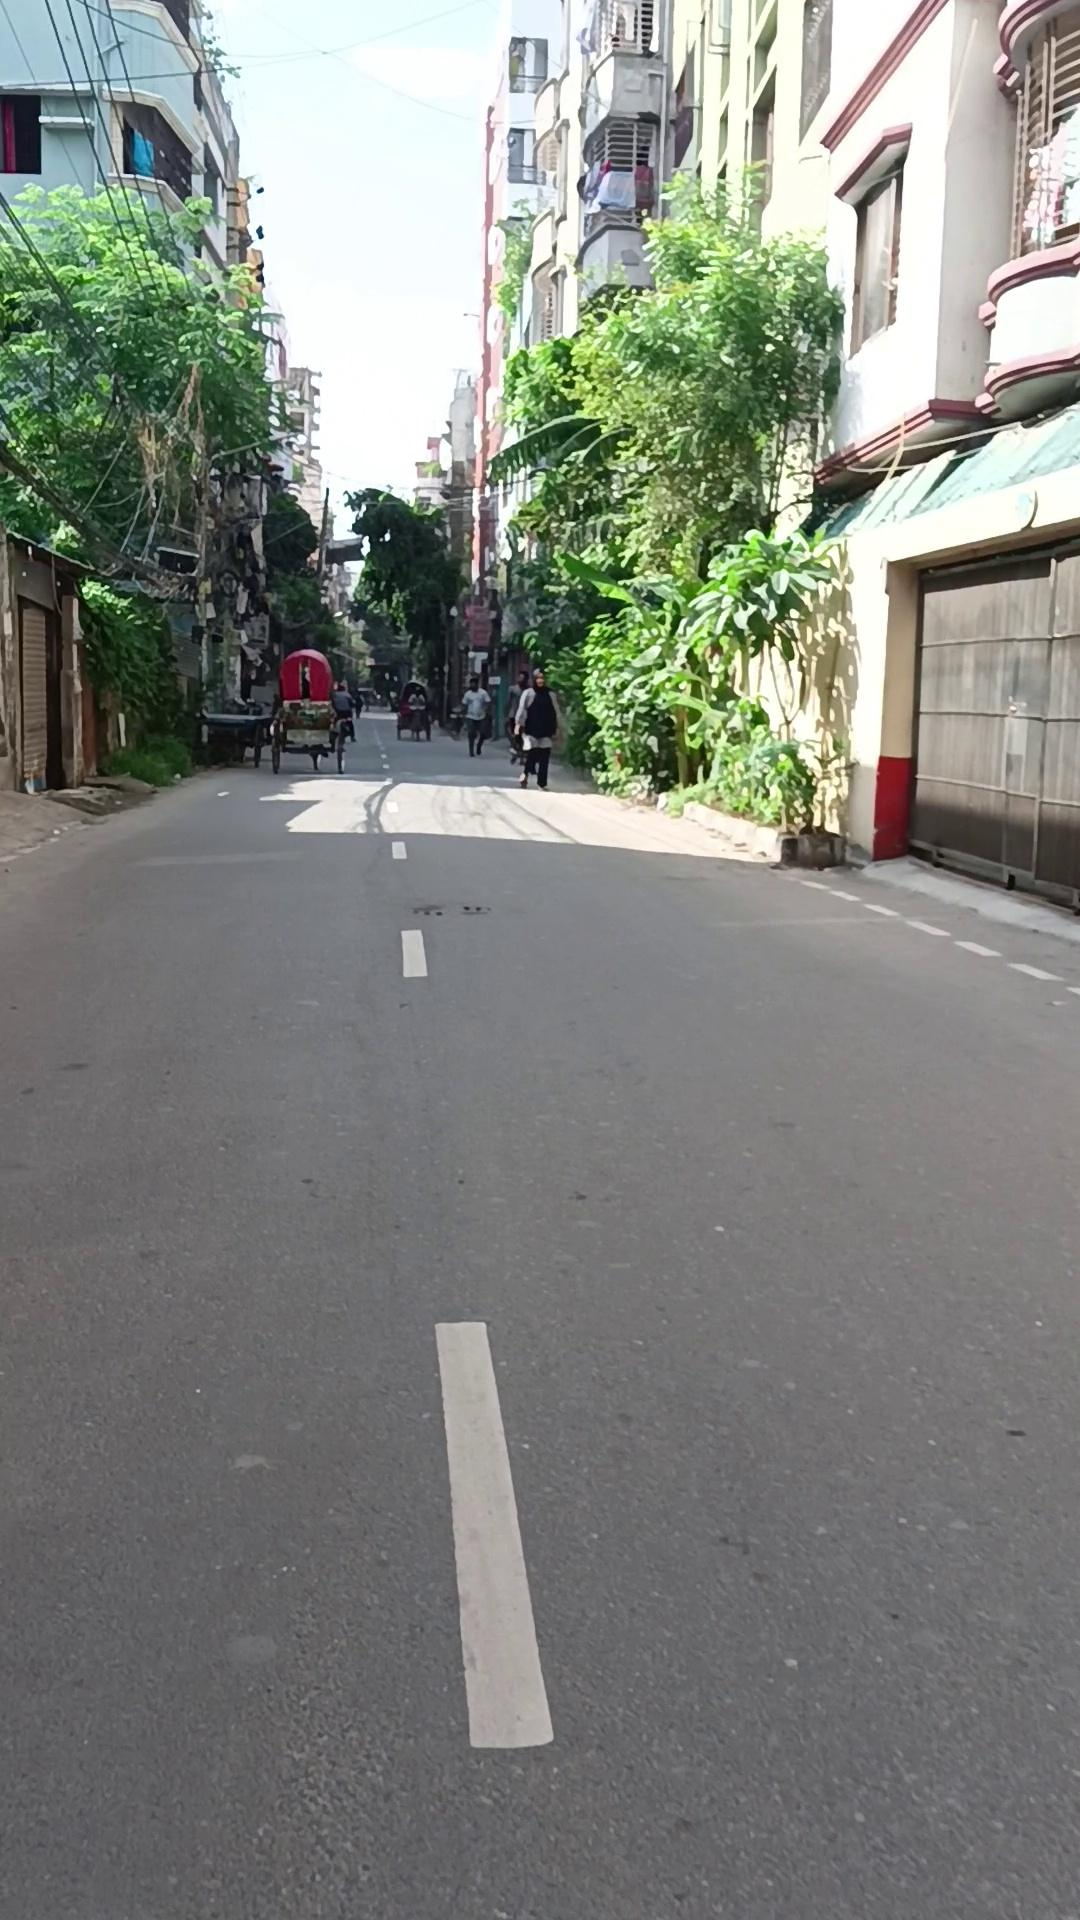Curb: (512, 669, 559, 789), (459, 675, 491, 756)
Fallen-tree: (785, 729, 856, 869)
Fence: (268, 649, 348, 774)
Light-pole: (484, 160, 852, 849), (0, 175, 291, 746), (343, 485, 463, 723)
Obstacle: (717, 531, 860, 855)
